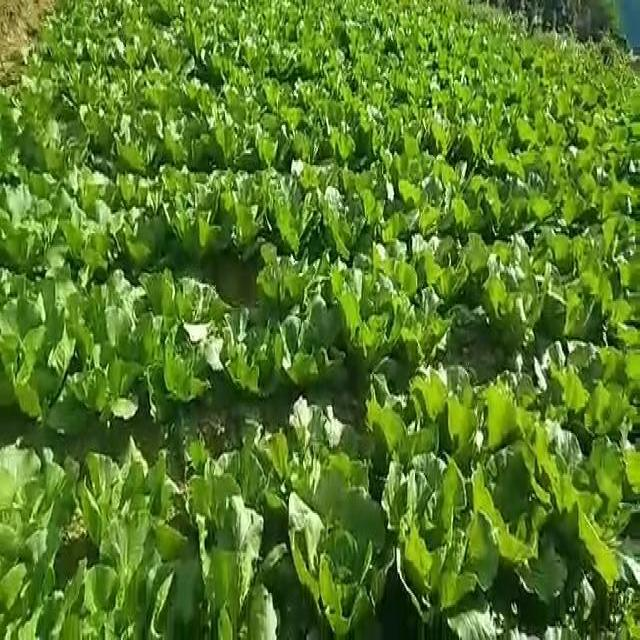Cabbage: (384, 456, 506, 634), (278, 487, 408, 624), (486, 413, 586, 590), (92, 427, 196, 566), (230, 396, 336, 498), (68, 553, 185, 640), (6, 444, 90, 558), (210, 518, 282, 640), (586, 428, 640, 586), (436, 350, 524, 442), (482, 235, 549, 353), (159, 272, 217, 406), (556, 342, 640, 432), (0, 328, 77, 422), (85, 328, 152, 434), (5, 556, 74, 640), (341, 266, 402, 358), (369, 366, 428, 453), (223, 313, 276, 407), (7, 269, 82, 333), (260, 246, 332, 305), (276, 310, 338, 375), (5, 192, 56, 267), (276, 176, 324, 250), (556, 265, 604, 338), (404, 294, 456, 358), (34, 110, 86, 172), (64, 207, 118, 266), (172, 189, 218, 258), (95, 266, 147, 327), (114, 114, 163, 176), (422, 230, 483, 278), (205, 93, 246, 164), (328, 182, 373, 242), (400, 130, 450, 182), (229, 192, 268, 255), (164, 107, 202, 168), (69, 162, 115, 210), (482, 167, 513, 235), (255, 104, 287, 167), (334, 112, 365, 164)
